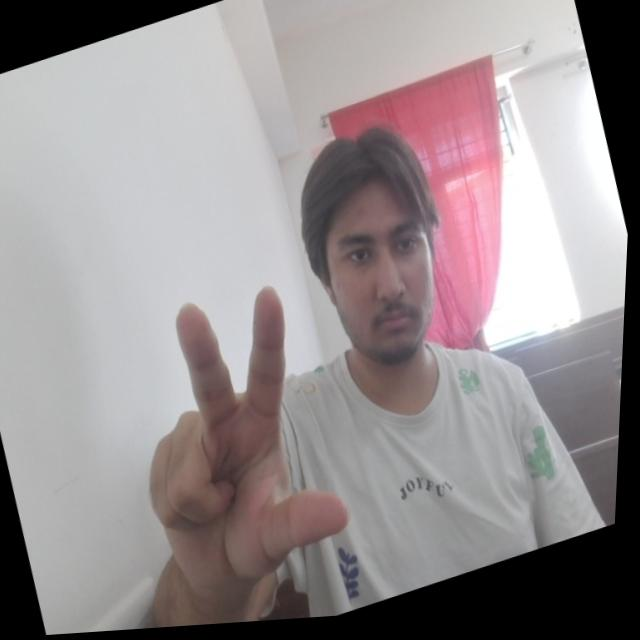no: (101, 264, 375, 615)
